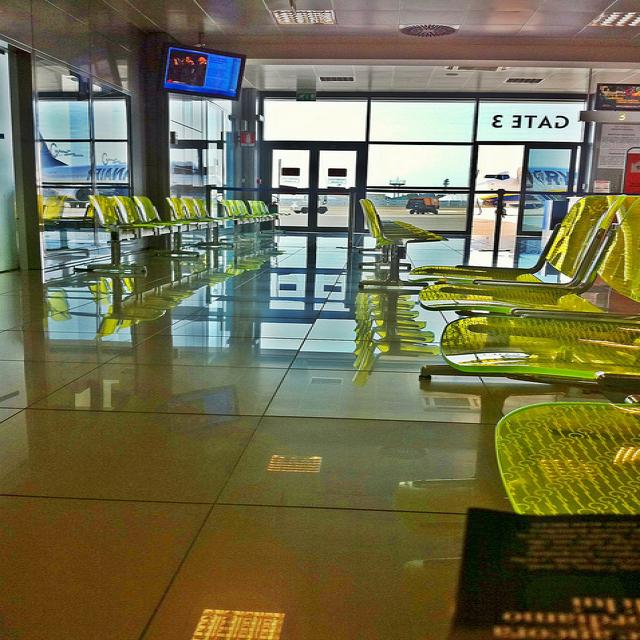Vehicle: (406, 197, 440, 214), (292, 199, 328, 215)
